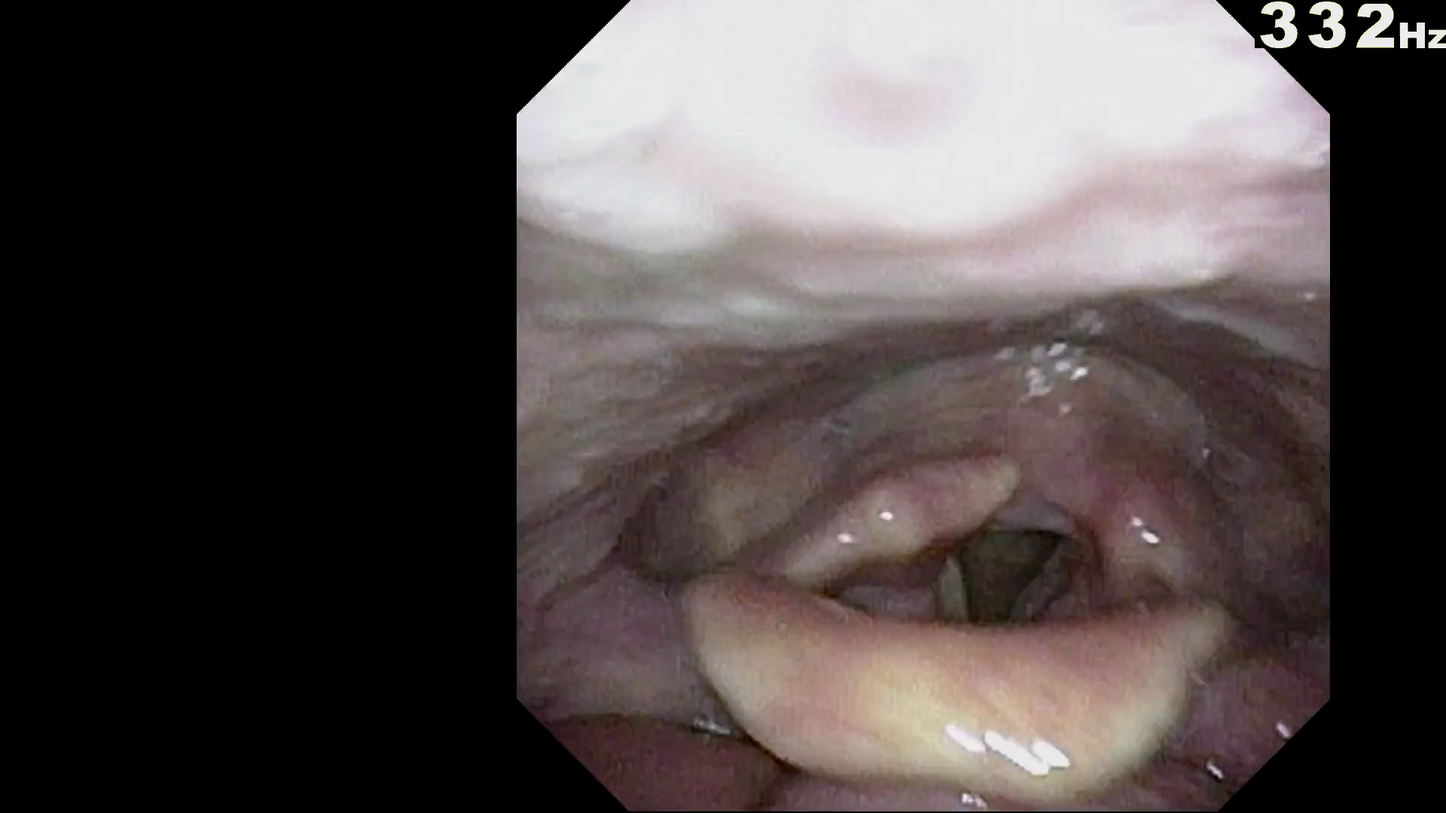epiglottis: (646, 591, 1188, 731)
trachea: (931, 506, 1086, 607)
